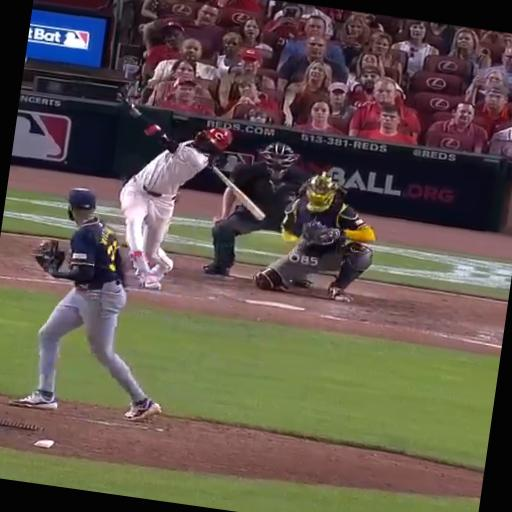bat: (210, 166, 265, 220)
